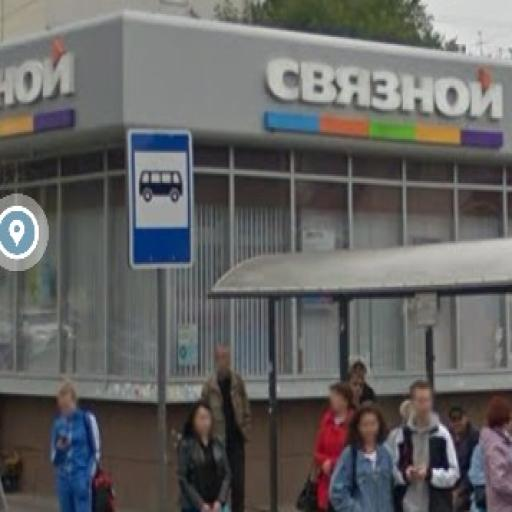traffic_sign: (124, 126, 199, 274)
